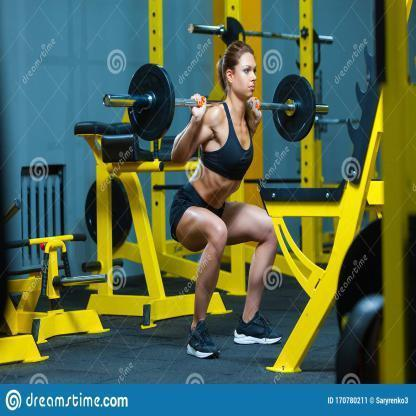barbell: (101, 61, 331, 143)
